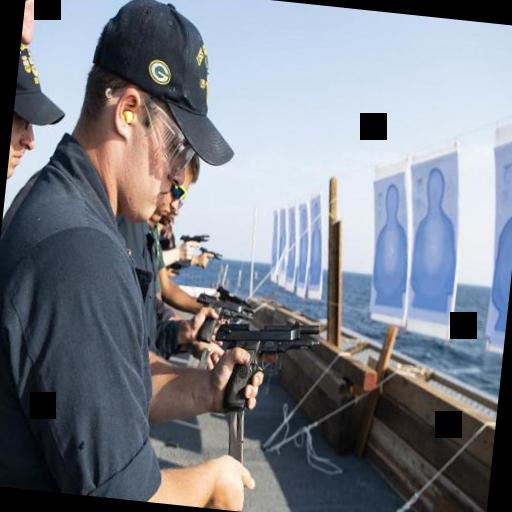Handgun: (208, 308, 322, 422), (189, 288, 253, 348), (177, 224, 213, 246), (194, 244, 222, 272)
